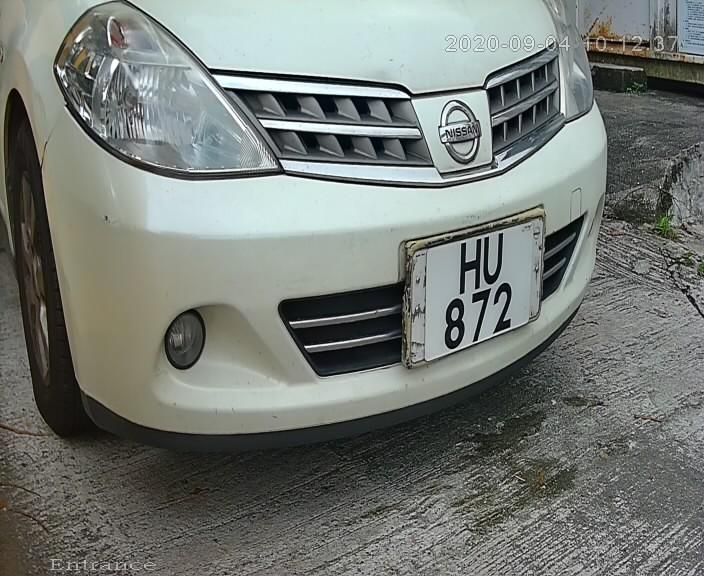License Plate: (386, 194, 556, 378)
